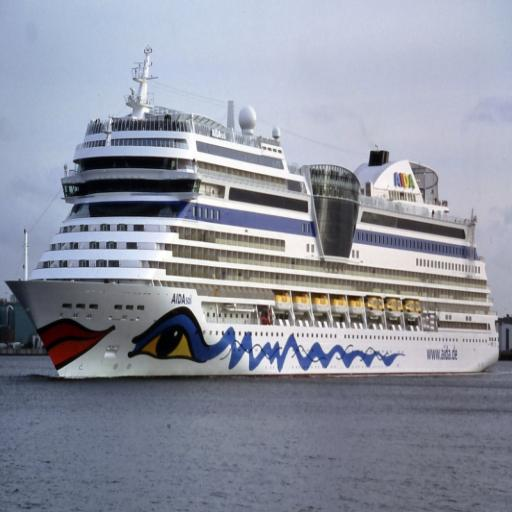cruises: (4, 42, 503, 389)
